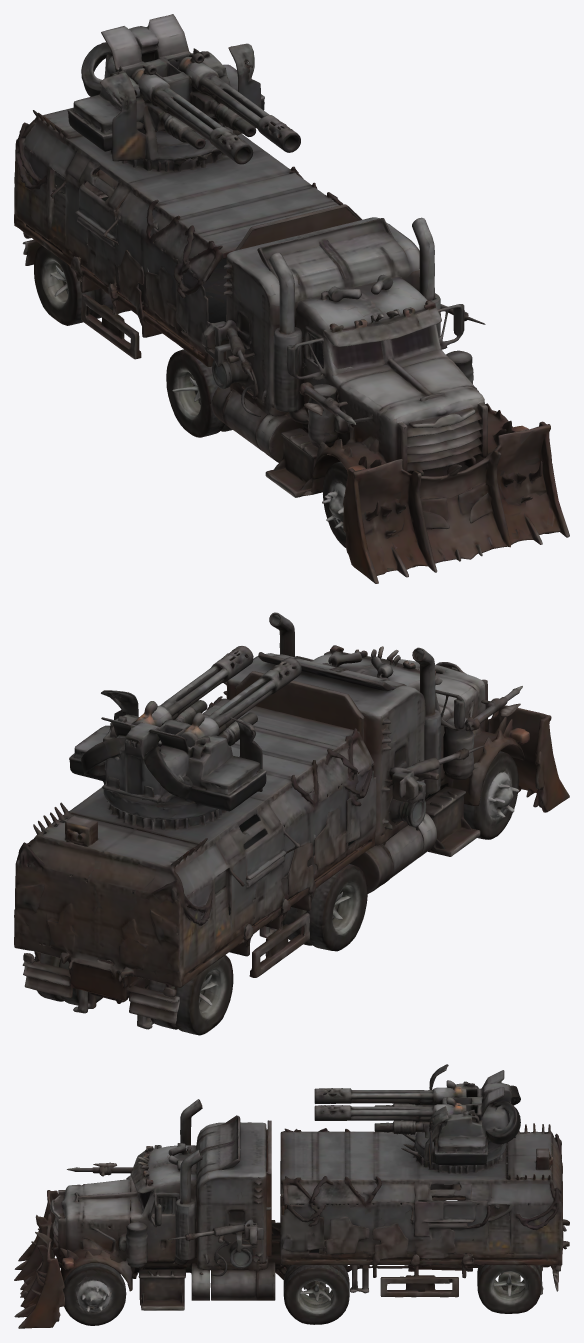
Rendered from DeathRaceTruck.glb.
3 renders of one model, top to bottom at view 1: azimuth 30°, elevation 25°; view 2: azimuth 150°, elevation 25°; view 3: azimuth 270°, elevation 25°, orthographic. The views are drawn at different scales.
Parts seen in each view (by area): view 1: Chassis_Main, Turret_Flak_Dual, Wheel_ML, Wheel_RL, Wheel_FL; view 2: Chassis_Main, Turret_Flak_Dual, Wheel_ML, Wheel_FL, Wheel_RL; view 3: Chassis_Main, Turret_Flak_Dual, Wheel_FR, Wheel_MR, Wheel_RR.
Boxes of the visible parts, x1=… form: Chassis_Main: x1=14, y1=44, x2=569, y2=583; Turret_Flak_Dual: x1=60, y1=14, x2=300, y2=165; Wheel_ML: x1=163, y1=327, x2=217, y2=419; Wheel_RL: x1=39, y1=237, x2=105, y2=325; Wheel_FL: x1=322, y1=453, x2=380, y2=539; Chassis_Main: x1=14, y1=612, x2=569, y2=1035; Turret_Flak_Dual: x1=60, y1=646, x2=301, y2=840; Wheel_ML: x1=296, y1=842, x2=367, y2=935; Wheel_FL: x1=477, y1=731, x2=544, y2=830; Wheel_RL: x1=197, y1=932, x2=249, y2=1024; Chassis_Main: x1=14, y1=1086, x2=569, y2=1328; Turret_Flak_Dual: x1=314, y1=1064, x2=514, y2=1175; Wheel_FR: x1=58, y1=1249, x2=125, y2=1319; Wheel_MR: x1=284, y1=1249, x2=349, y2=1313; Wheel_RR: x1=462, y1=1253, x2=528, y2=1312.
Bounding box in the file's own units: 0.3496 × 0.4314 × 0.9997.
1 material, 1 textured.
